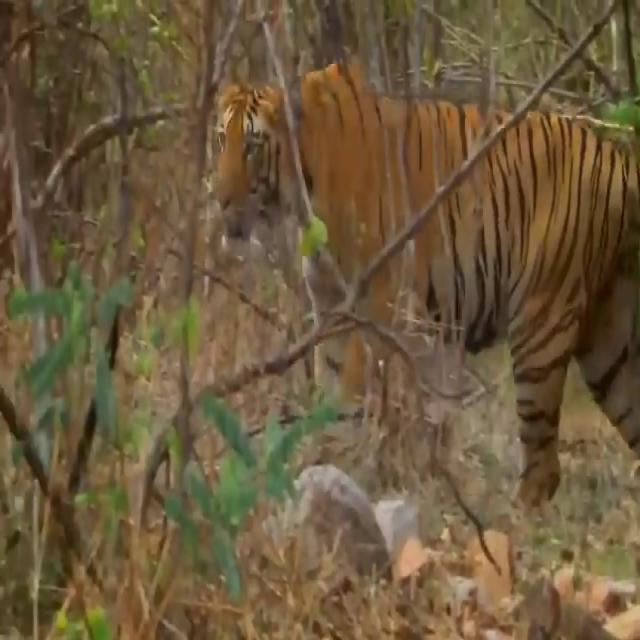tiger: (214, 60, 640, 509)
